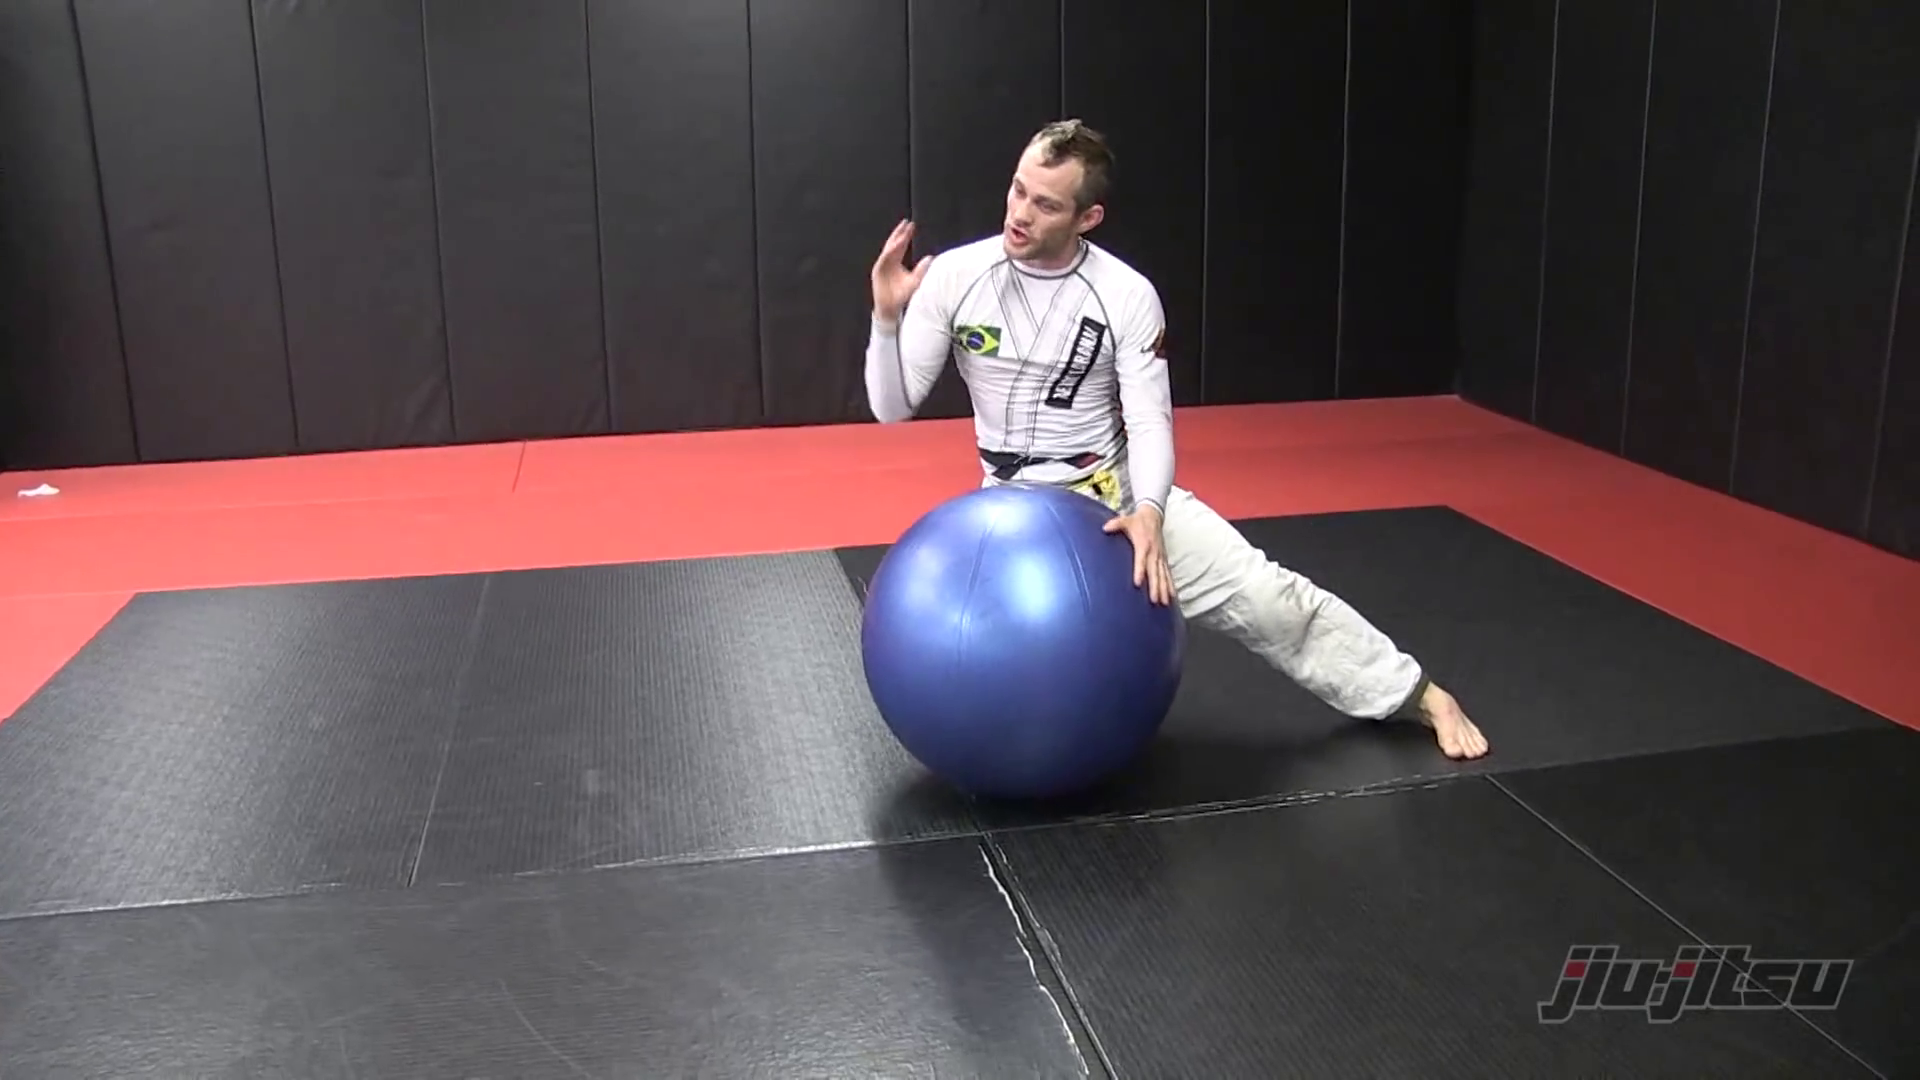yogaball: (849, 477, 1187, 808)
